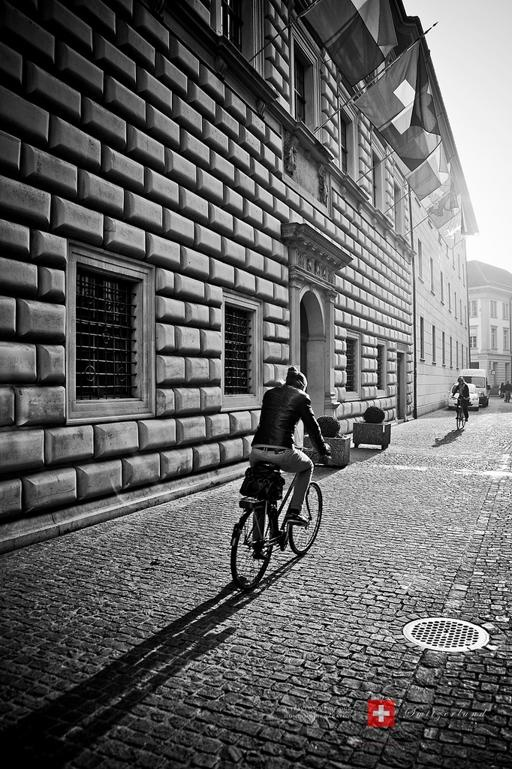non-vehicle: (222, 443, 336, 594), (450, 396, 468, 431), (503, 390, 510, 403)
